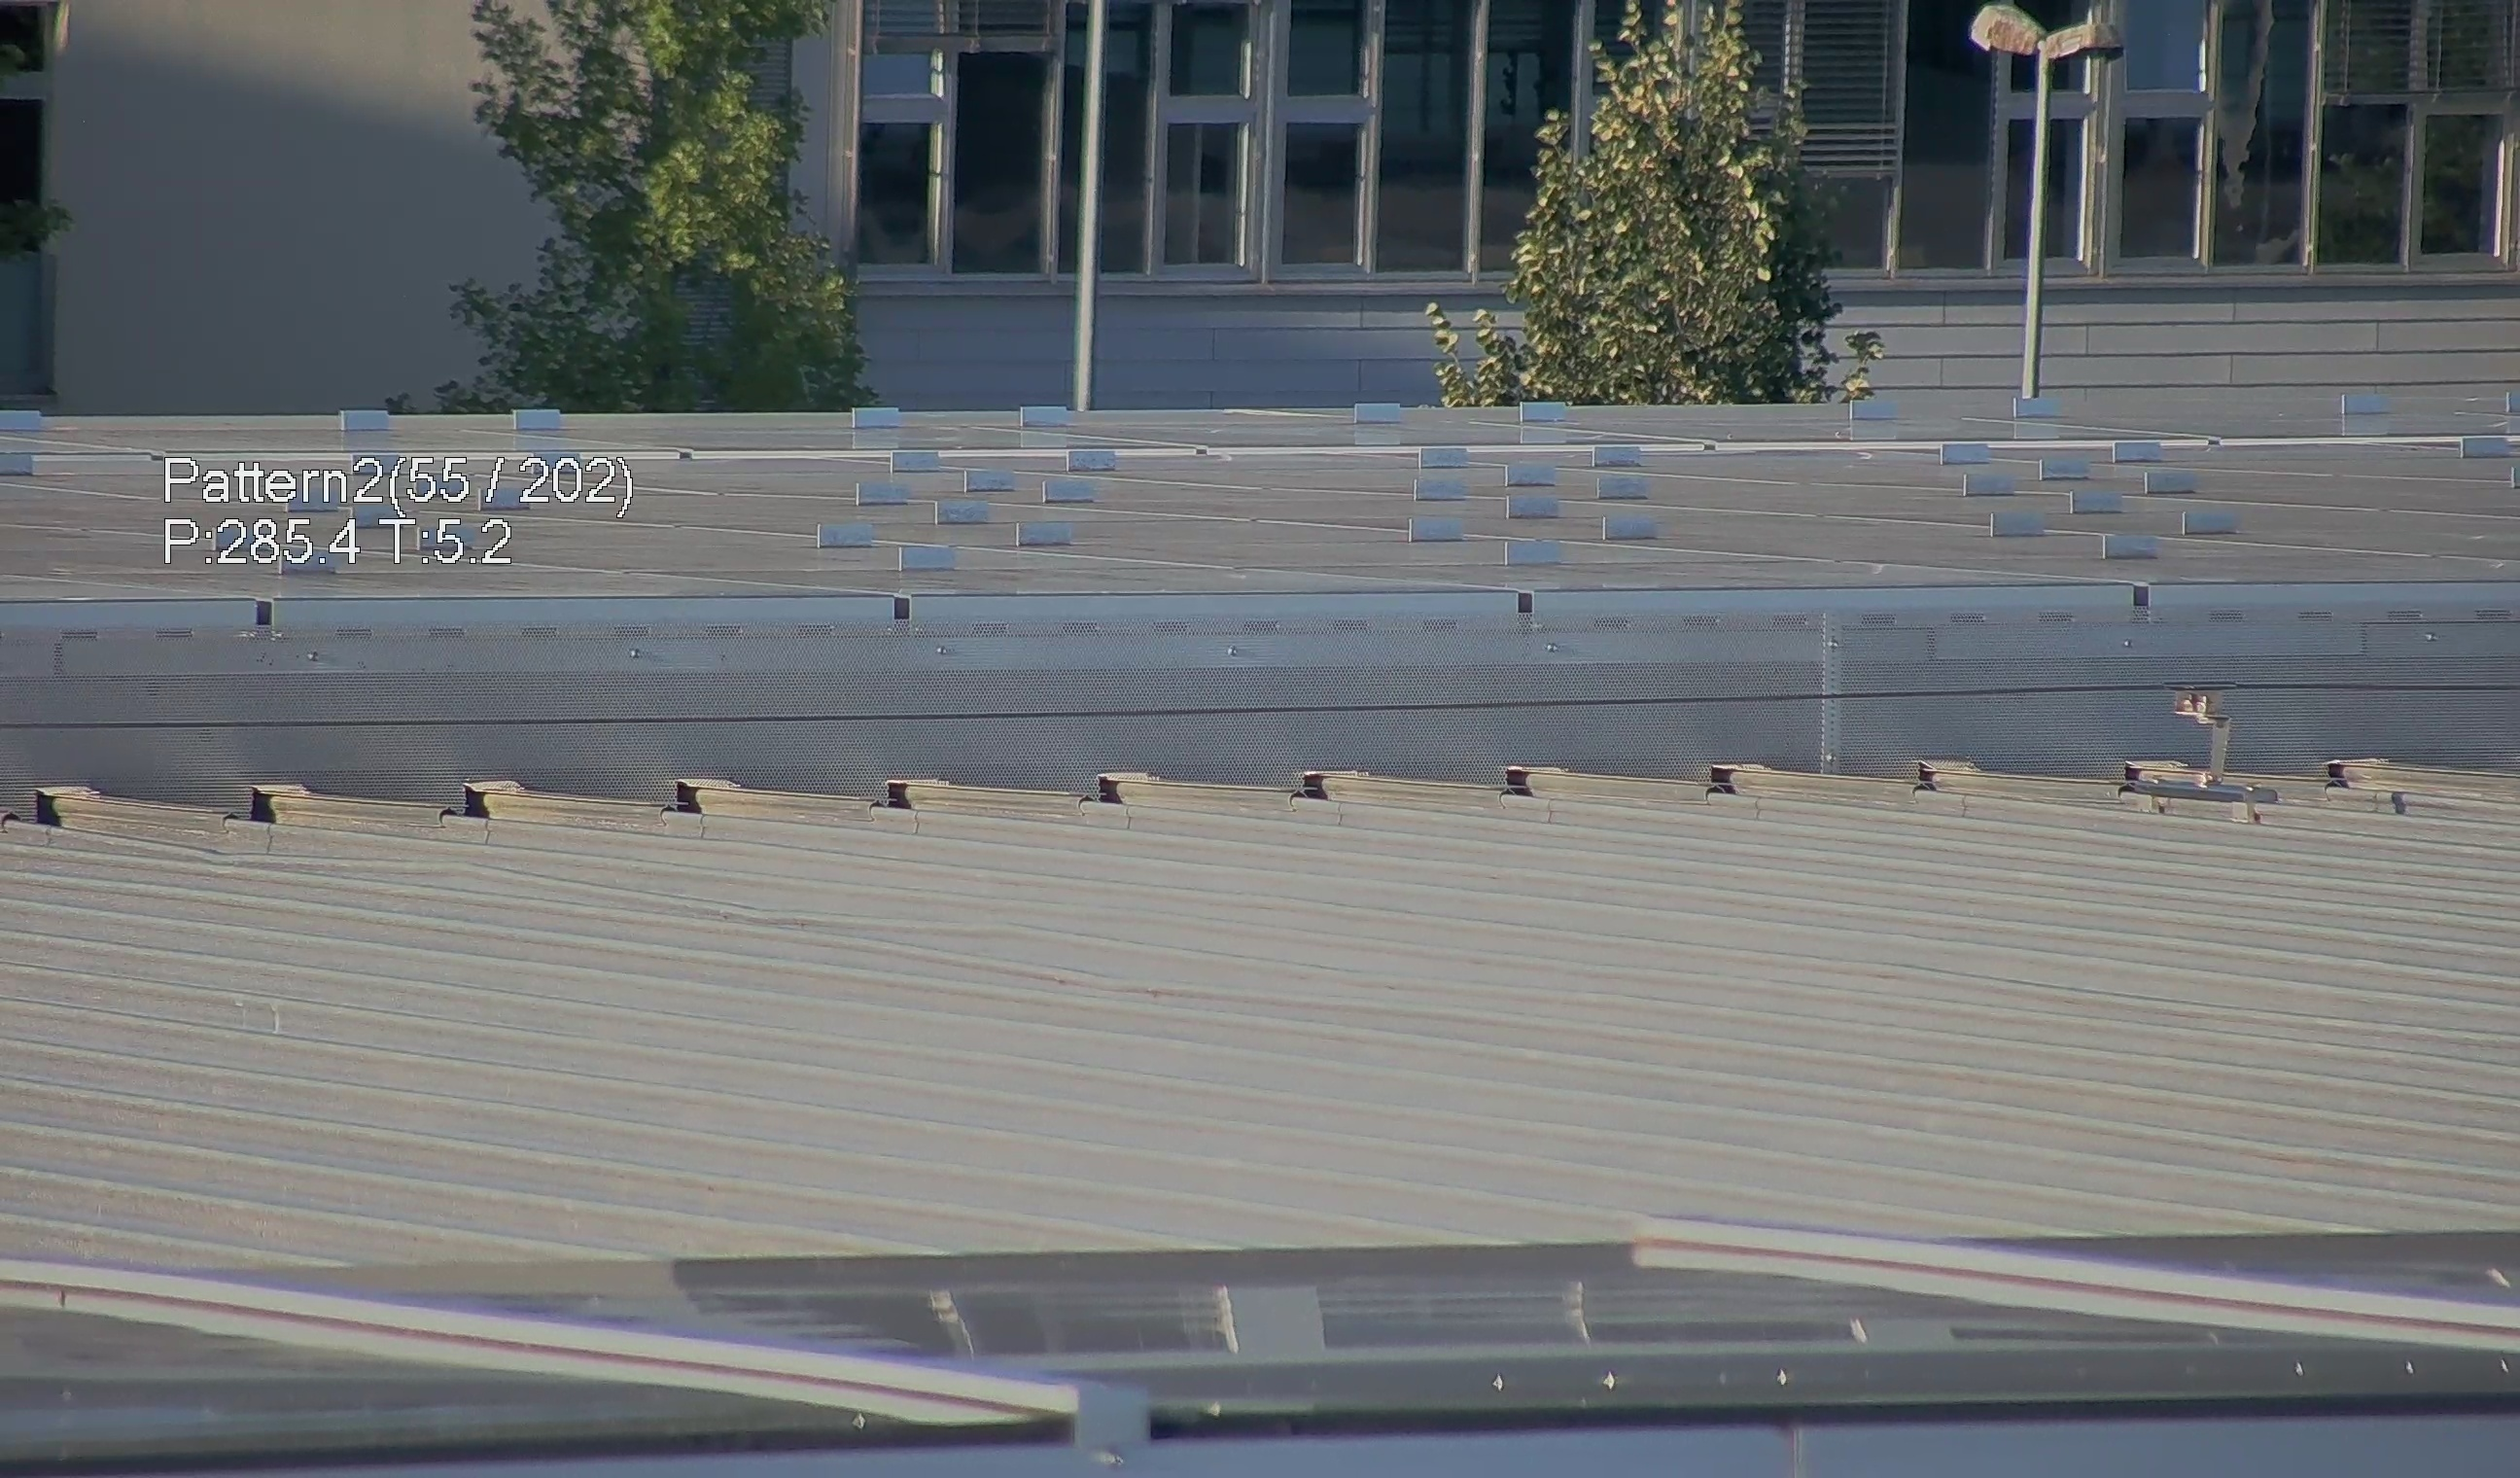Other: (651, 772, 705, 825)
